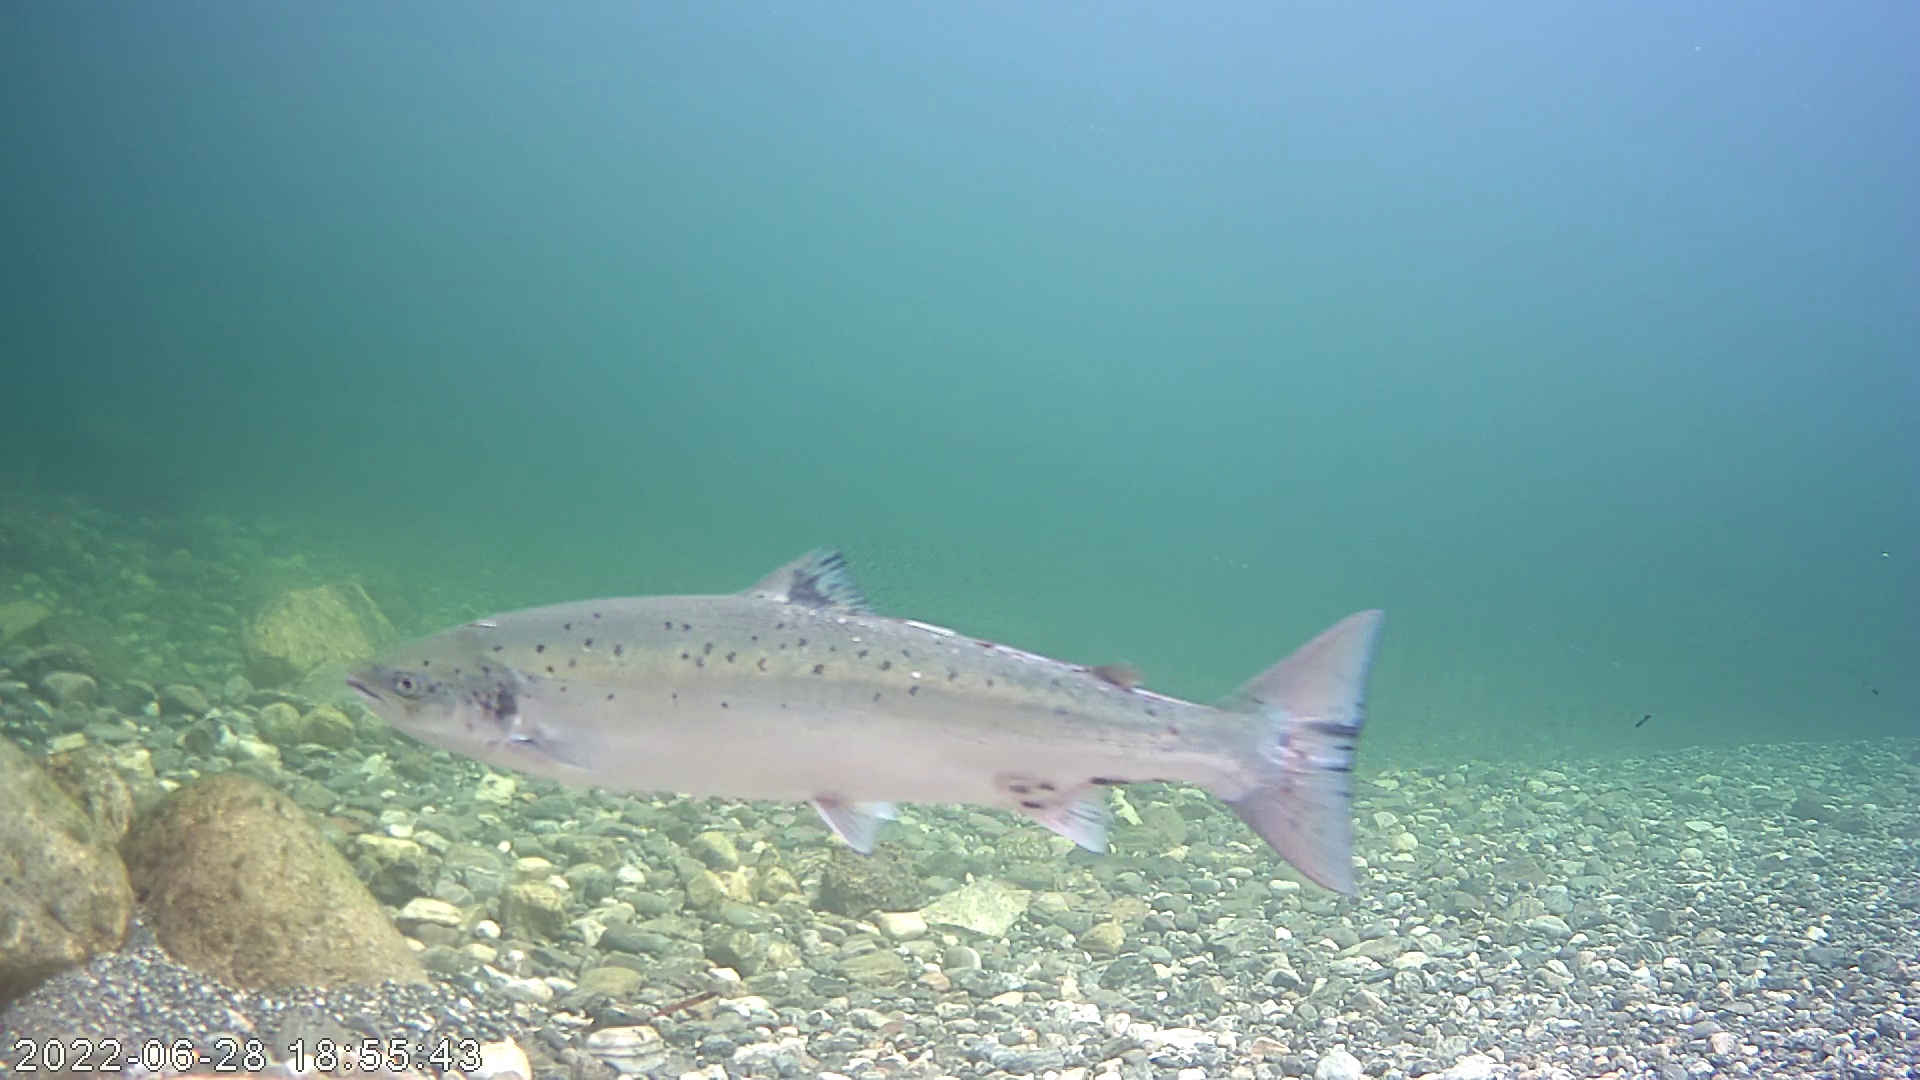salmon: (334, 496, 1408, 894)
